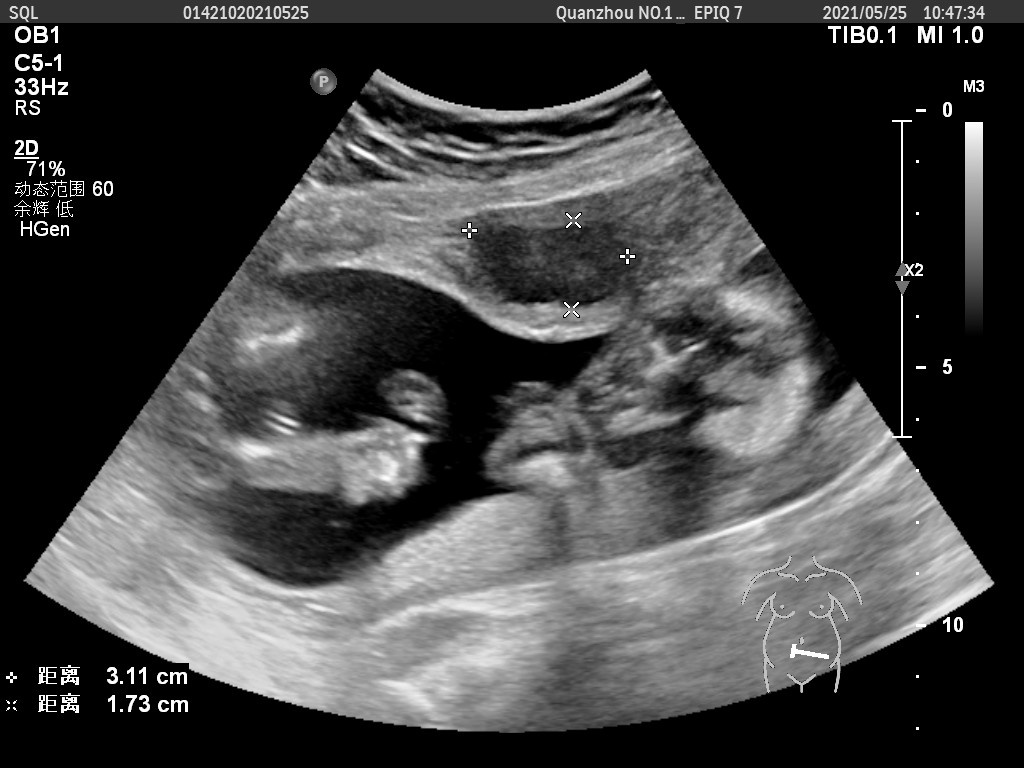肌瘤: (473, 220, 631, 311)
